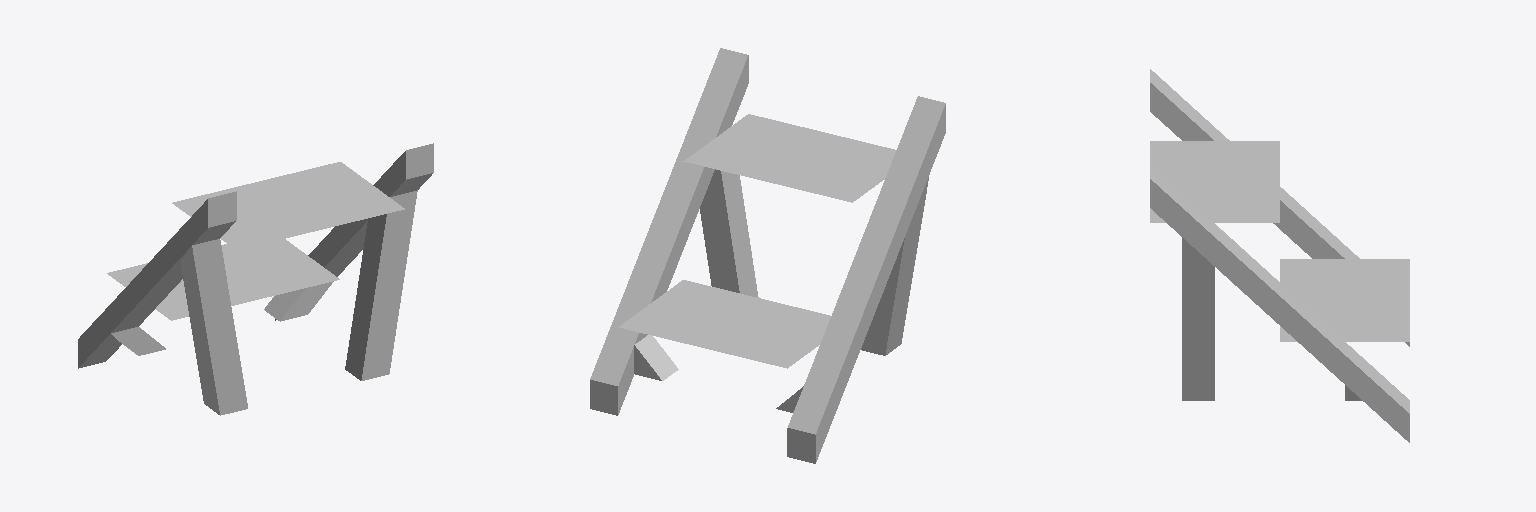
Rendered from steel_catwalk_stairs_support.obj.
3 views of the same model, side by side, from view 1: azimuth 30°, elevation 25°; view 2: azimuth 150°, elevation 25°; view 3: azimuth 270°, elevation 25° (orthographic).
Visible parts, largest first — view 1: path2, support3, support4, beam1, path1, beam2, support2, support1; view 2: beam1, beam2, path1, path2, support3, support4, support2; view 3: beam2, path1, path2, beam1, support3.
Part boxes in pixels (bbox=[...]): path2: bbox=[172, 162, 404, 250]; support3: bbox=[345, 190, 417, 380]; support4: bbox=[181, 239, 247, 415]; beam1: bbox=[78, 191, 236, 368]; path1: bbox=[107, 239, 339, 320]; beam2: bbox=[275, 143, 433, 320]; support2: bbox=[264, 281, 333, 321]; support1: bbox=[111, 327, 165, 355]; beam1: bbox=[787, 96, 945, 463]; beam2: bbox=[590, 48, 748, 415]; path1: bbox=[619, 280, 830, 368]; path2: bbox=[683, 114, 895, 202]; support3: bbox=[700, 169, 758, 297]; support4: bbox=[861, 177, 928, 355]; support2: bbox=[634, 335, 678, 380]; beam2: bbox=[1150, 165, 1409, 442]; path1: bbox=[1280, 259, 1409, 341]; path2: bbox=[1150, 141, 1279, 222]; beam1: bbox=[1150, 69, 1409, 346]; support3: bbox=[1182, 237, 1214, 400].
Size of the model in its own units: 1 by 1.12 by 1.